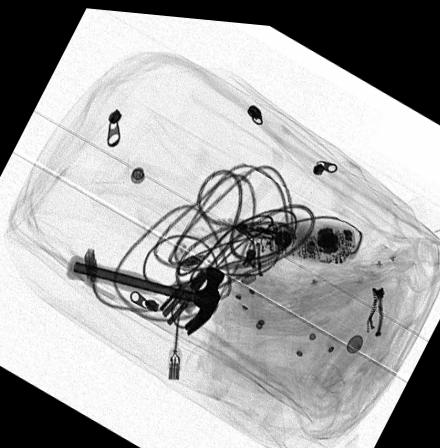Hammer: (65, 251, 224, 332)
